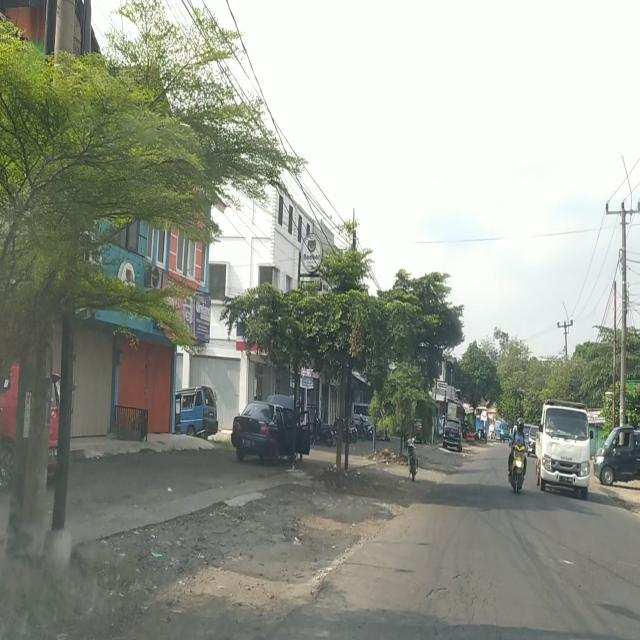Drain Hole: (413, 560, 502, 640)
